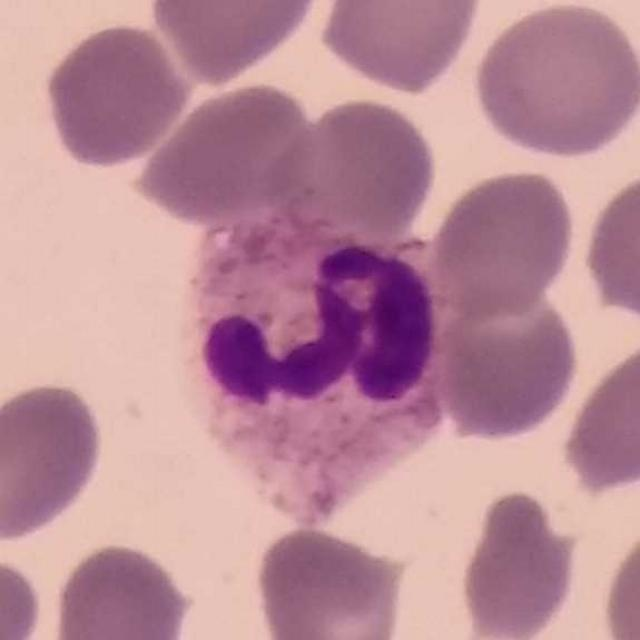Neutrophil: (175, 216, 451, 532)
RBC: (126, 78, 324, 225), (468, 0, 640, 161), (267, 93, 442, 244), (431, 281, 583, 445), (425, 164, 580, 320), (40, 18, 194, 170), (454, 484, 583, 640), (249, 523, 411, 640), (0, 377, 109, 548), (314, 0, 485, 96), (144, 0, 330, 87), (45, 537, 198, 640), (556, 329, 640, 498), (579, 162, 640, 328), (597, 514, 640, 640), (0, 546, 48, 640)
